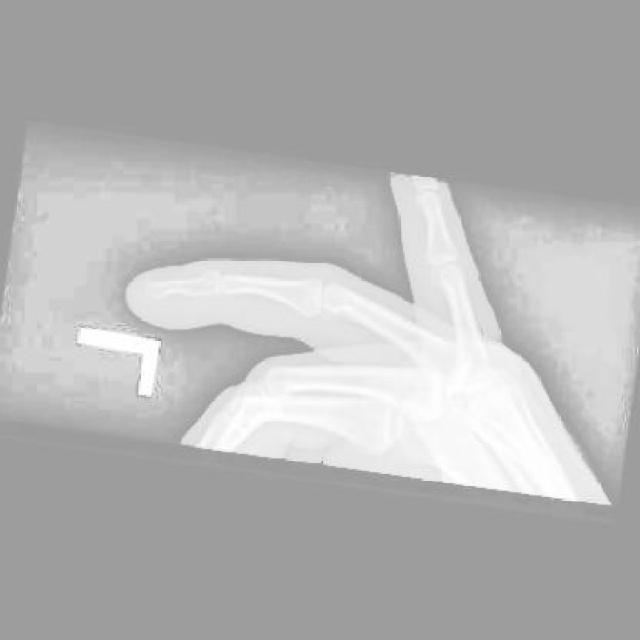Fracture: (188, 262, 227, 299)
